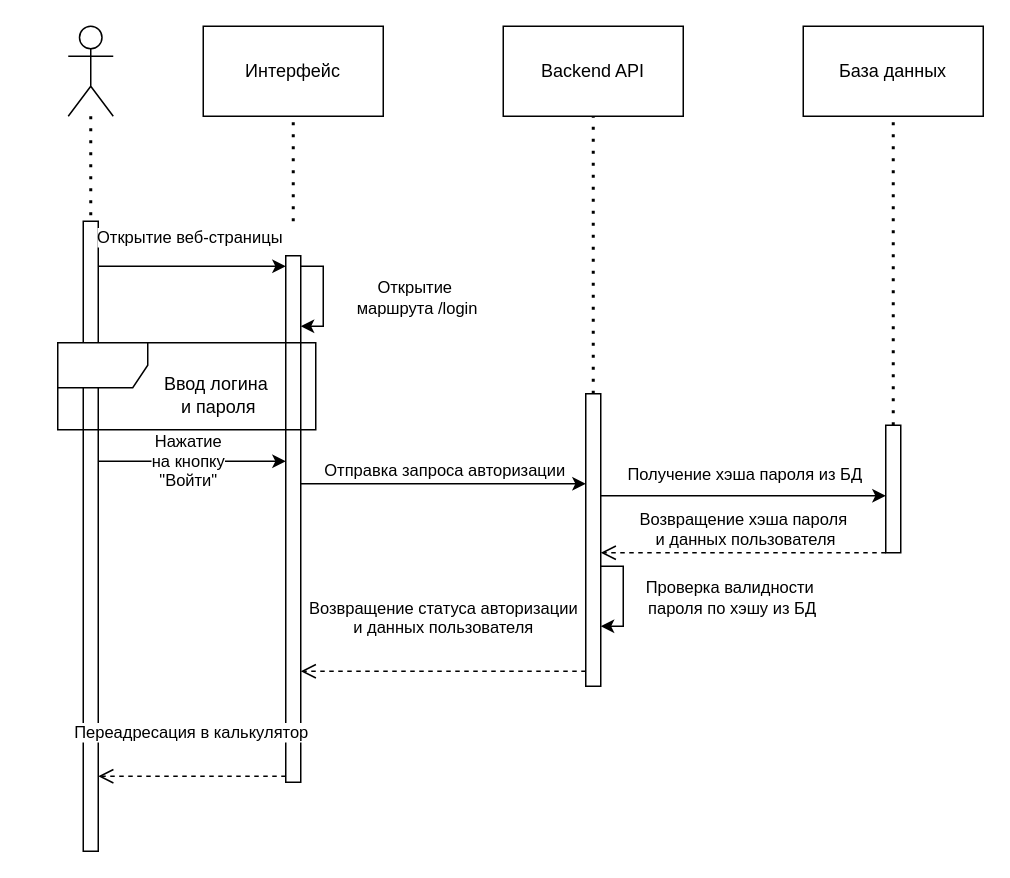
Image size: 1010x878. Some labels were removed from this diagram. Here are the shapes that lost their labels. From the top down, the centre of each, then its label:
At (x=90, y=70): "Пользователь Администратор".
At (x=186, y=385): "ref".
